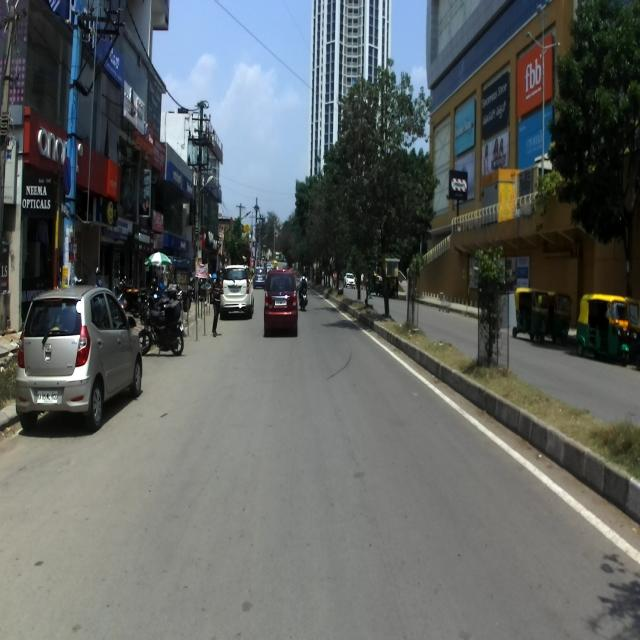Car_Hyundai: (14, 282, 142, 432)
Car_Mahindra: (220, 264, 256, 320)
Car_Maruti-Suzuki: (262, 267, 300, 336), (342, 271, 357, 290)
autorickshaw: (575, 293, 630, 365)
motorcycle_bajaj: (138, 294, 186, 358)
